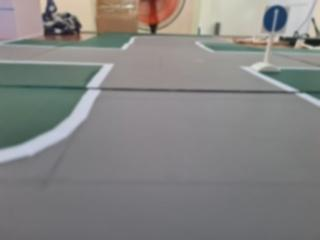straight: (262, 4, 288, 33)
